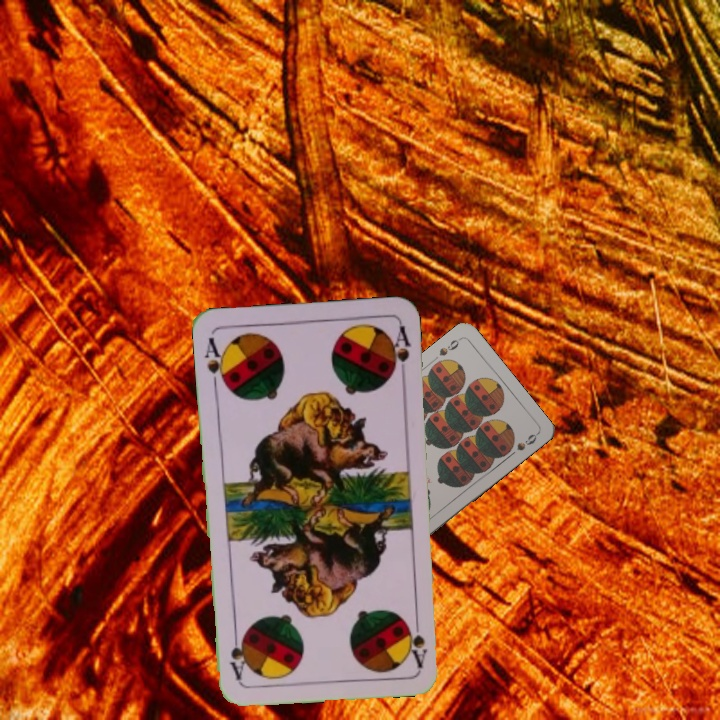S9: (435, 334, 464, 358)
SA: (201, 333, 230, 392), (405, 610, 430, 669)
